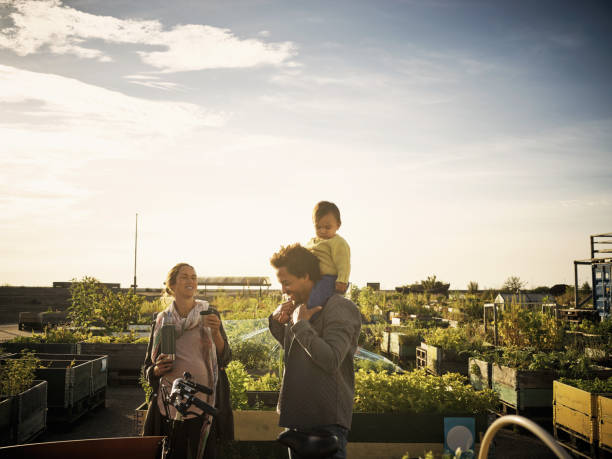without mask: (271, 257, 310, 303), (308, 204, 346, 238), (170, 267, 208, 300)
